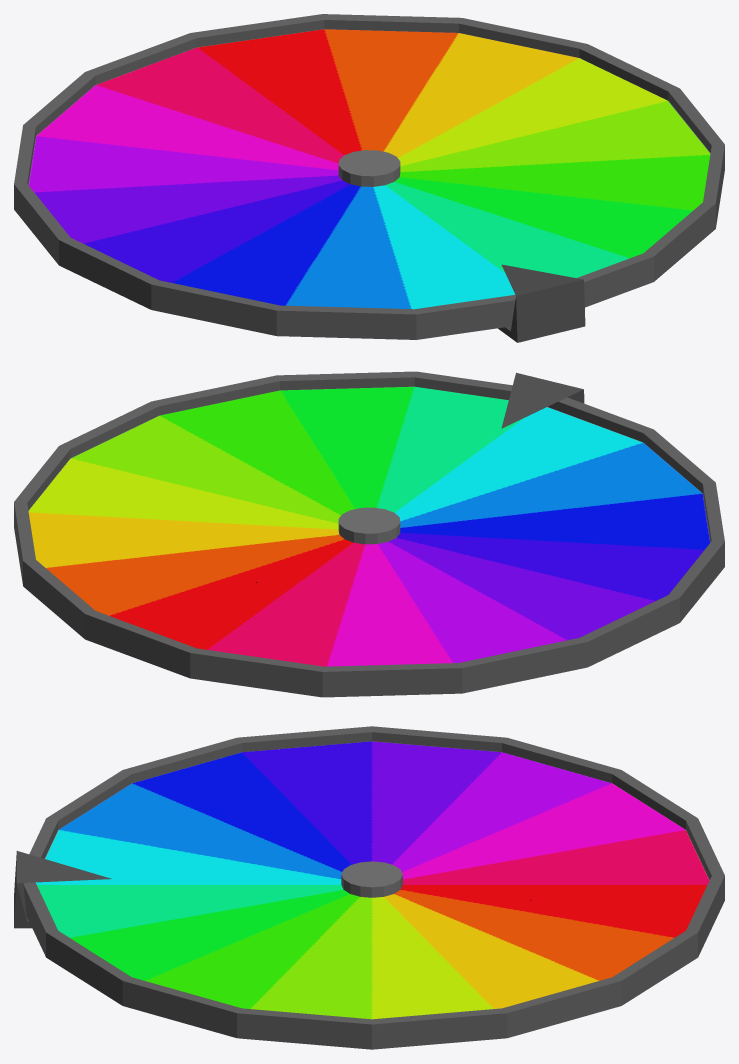
Rendered from luckyWheel.glb.
3 views of the same model, one above another, from view 1: azimuth 30°, elevation 25°; view 2: azimuth 150°, elevation 25°; view 3: azimuth 270°, elevation 25° (orthographic).
Visible parts, largest first — view 1: luckyWheel; view 2: luckyWheel; view 3: luckyWheel.
Part boxes in pixels (left/top/right/bottom): luckyWheel: left=14, top=14, right=724, bottom=342; luckyWheel: left=14, top=371, right=724, bottom=697; luckyWheel: left=14, top=726, right=724, bottom=1049.
Size of the model in its own units: 415 by 29.26 by 419.
Materials: 3 (1 with a texture image).
